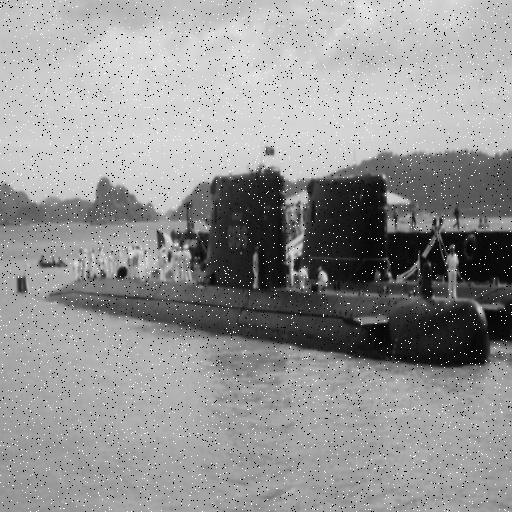submarine: (1, 166, 492, 365), (280, 163, 512, 342)
